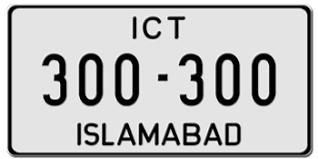0: (74, 50, 109, 110), (111, 50, 145, 109), (211, 50, 245, 109), (248, 49, 280, 109)
3: (175, 52, 207, 109), (39, 52, 72, 107)
A: (201, 121, 223, 147), (116, 122, 137, 148), (161, 121, 181, 148)
B: (180, 121, 202, 147)
C: (140, 14, 164, 41)
D: (222, 120, 242, 147)
I: (129, 14, 140, 41), (74, 121, 83, 147)
L: (100, 121, 115, 146)
M: (137, 121, 161, 148)
S: (83, 121, 100, 148)
T: (166, 14, 189, 40)
